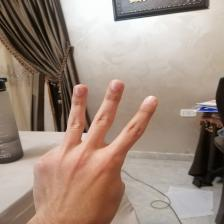five: (38, 80, 158, 216)
